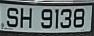1: (53, 7, 61, 32)
3: (60, 8, 73, 31)
8: (73, 7, 86, 31)
9: (40, 8, 54, 31)
H: (20, 7, 34, 31)
S: (6, 6, 20, 30)
